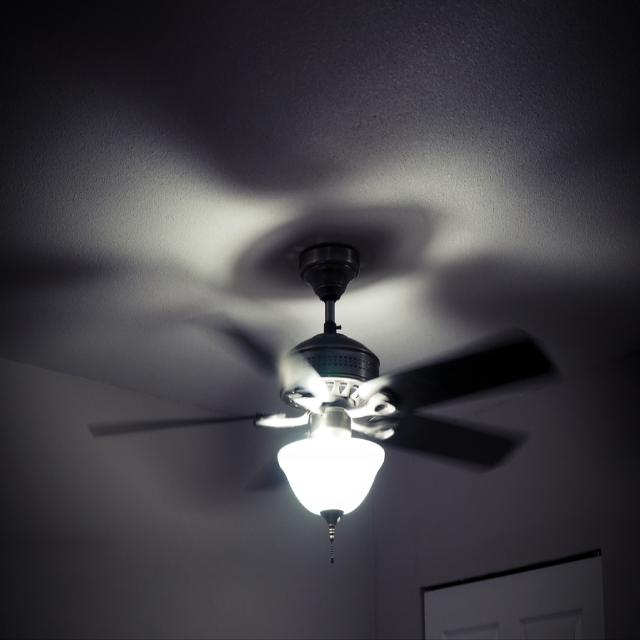Bulb: (88, 240, 558, 563)
